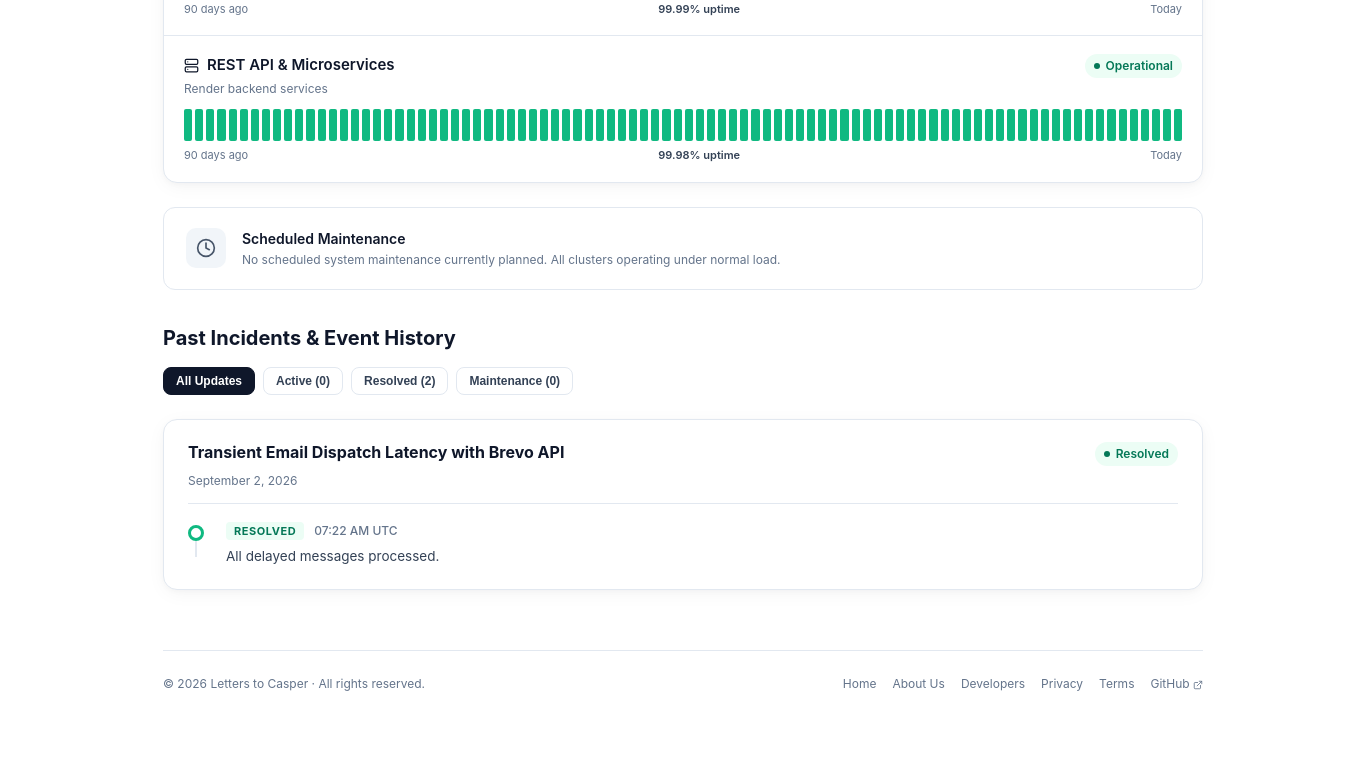
Test: StatusPage Component › filters past incident logs by status tab
(page scrolled)
Expected: the heading "Past Incidents & Event History" is shown, x1=163 y1=326 x2=456 y2=351
Click the tab "Maintenance (0)". click: x=515, y=381
box: x1=456 y1=367 x2=573 y2=395
(page scrolled)
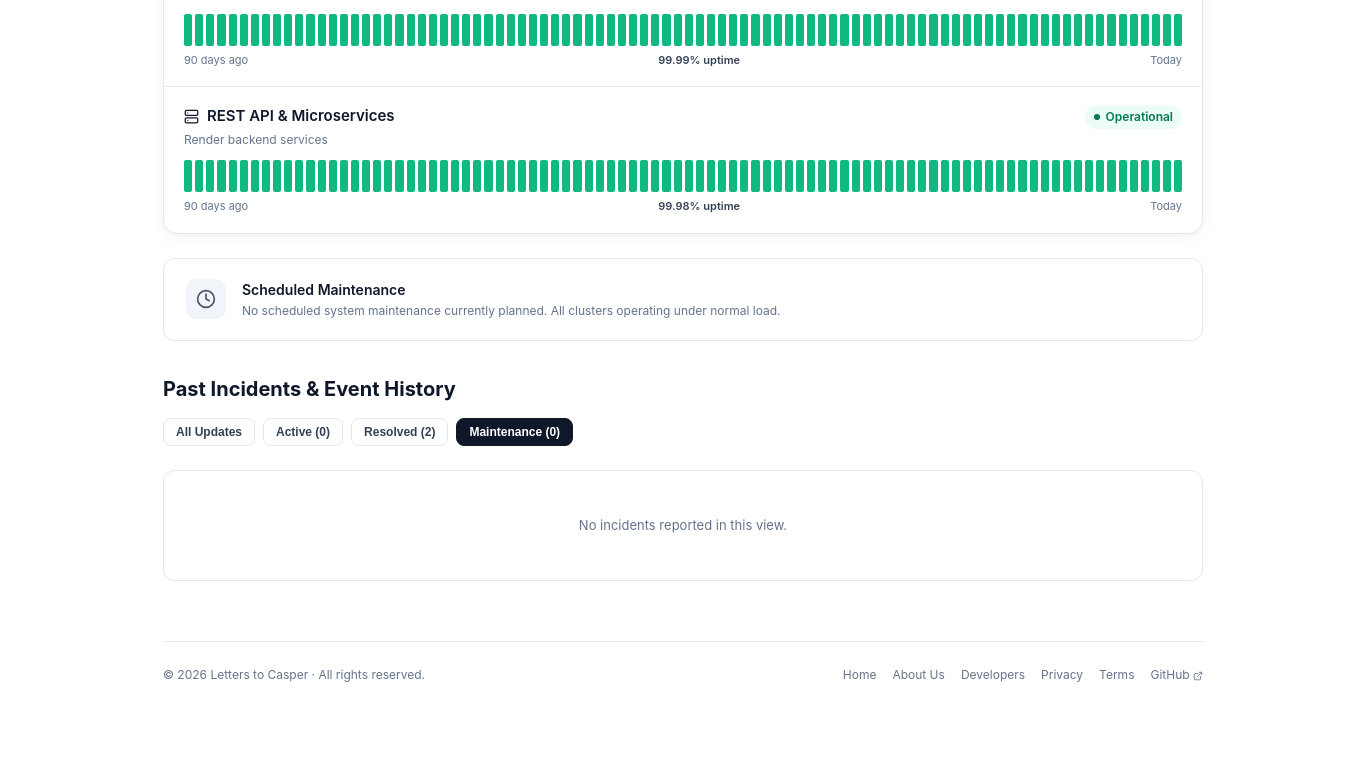
Expected: the text "No incidents reported in this view." is shown, x1=579 y1=517 x2=787 y2=533
Click the tab "All Updates". click: x=209, y=432
box: x1=163 y1=418 x2=255 y2=446
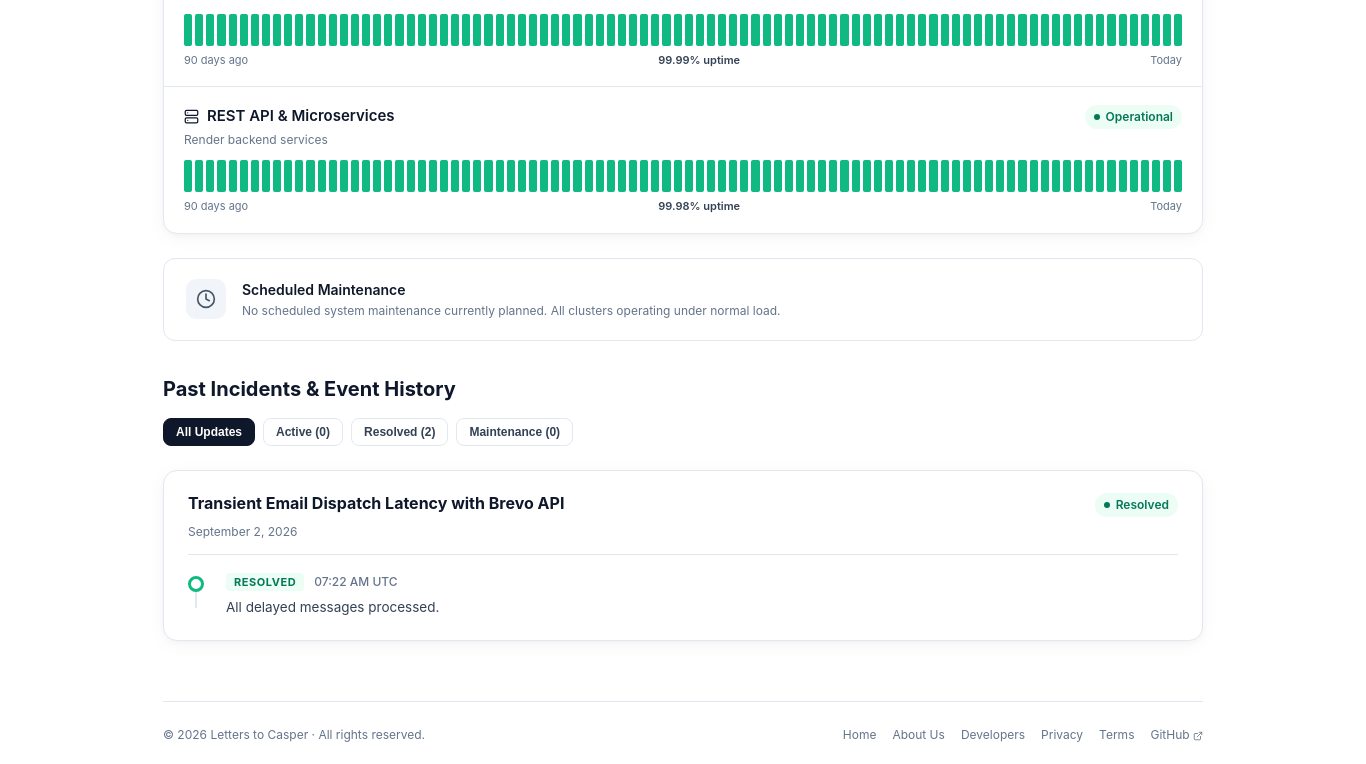
Expected: the heading "Transient Email Dispatch Latency with Brevo API" is shown, x1=188 y1=493 x2=564 y2=514
